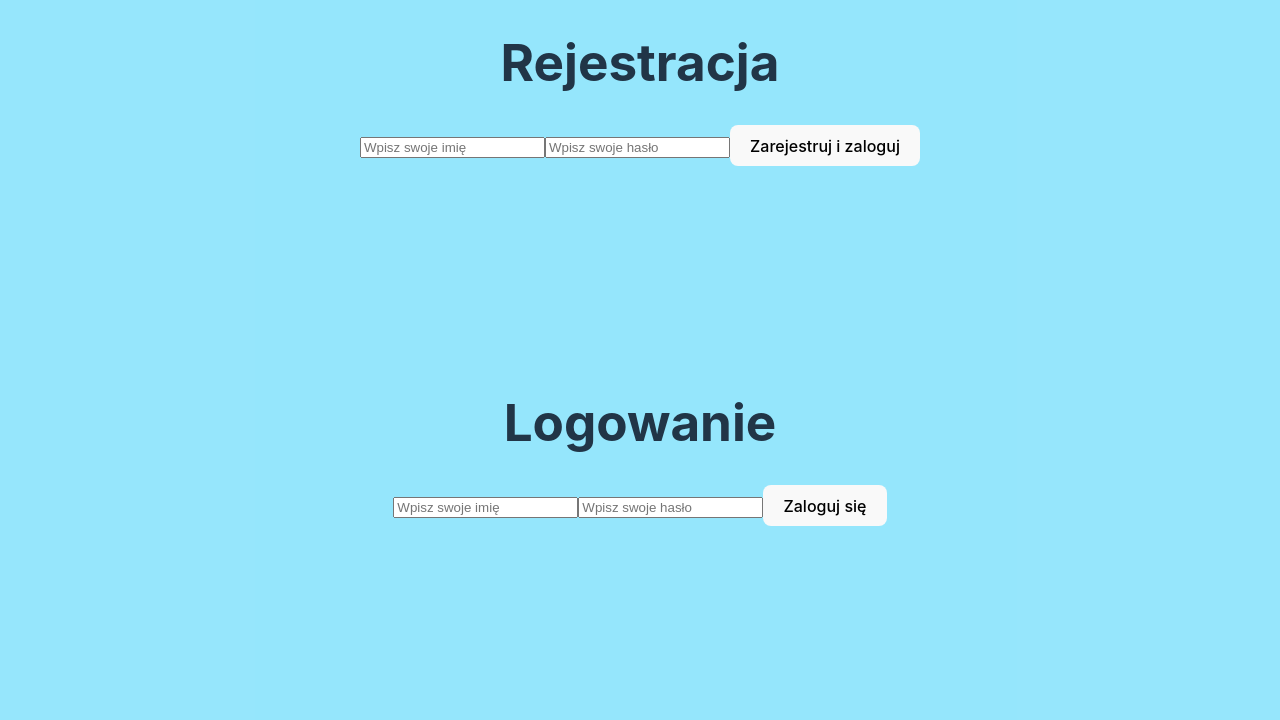
Test: example to-do app › shows error for wrong credentials
Testuje formularz logowania z błędnymi danymi
Type "Nieznany" into the field with test id "login-username-input".
click(486, 508); type("Nieznany")  # box [393,497,578,518]
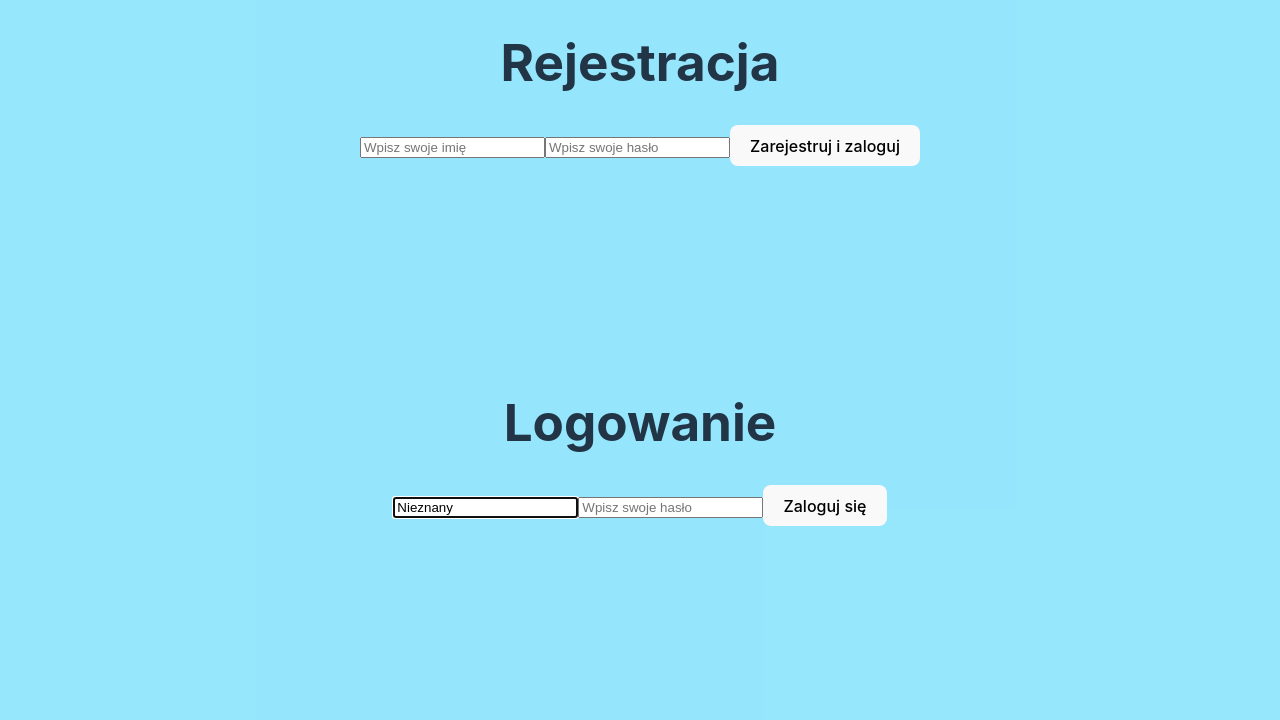
Type "błędnehasło" into the password field with test id "login-password-input".
click(671, 508); type("błędnehasło")  # box [578,497,763,518]
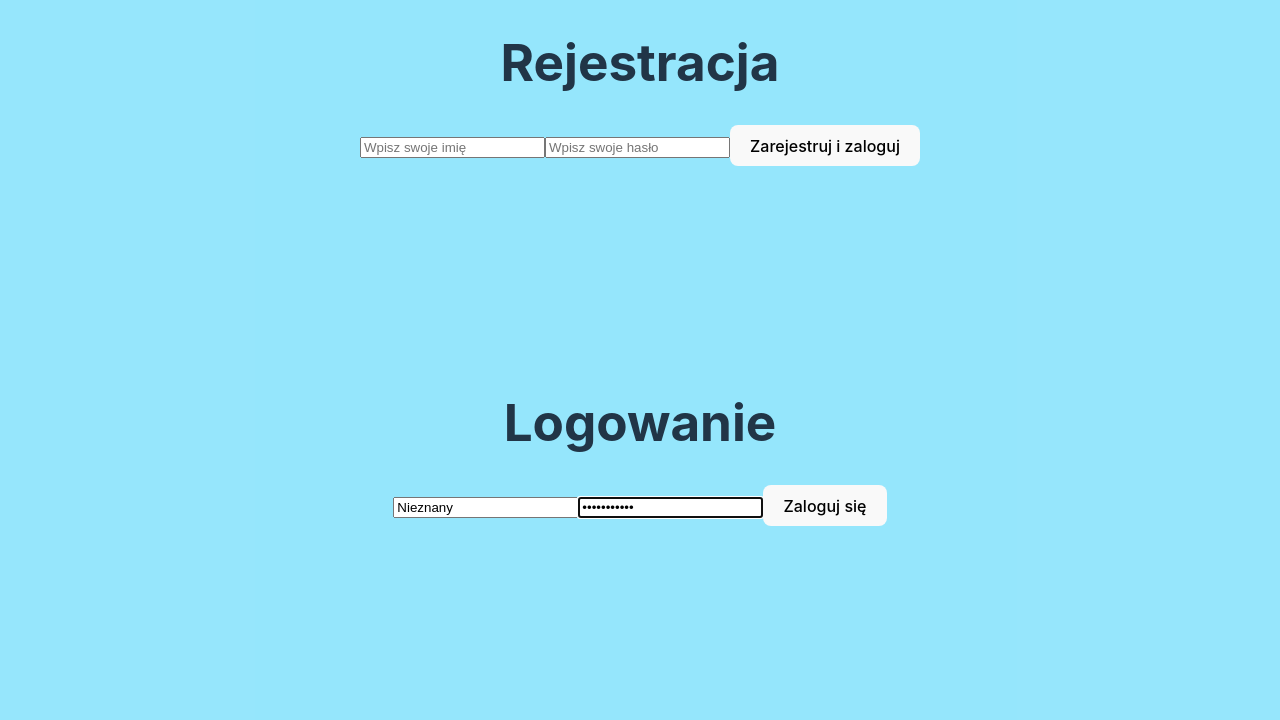
Click the button with test id "login-submit".
click(825, 506)  # box [763,485,886,526]
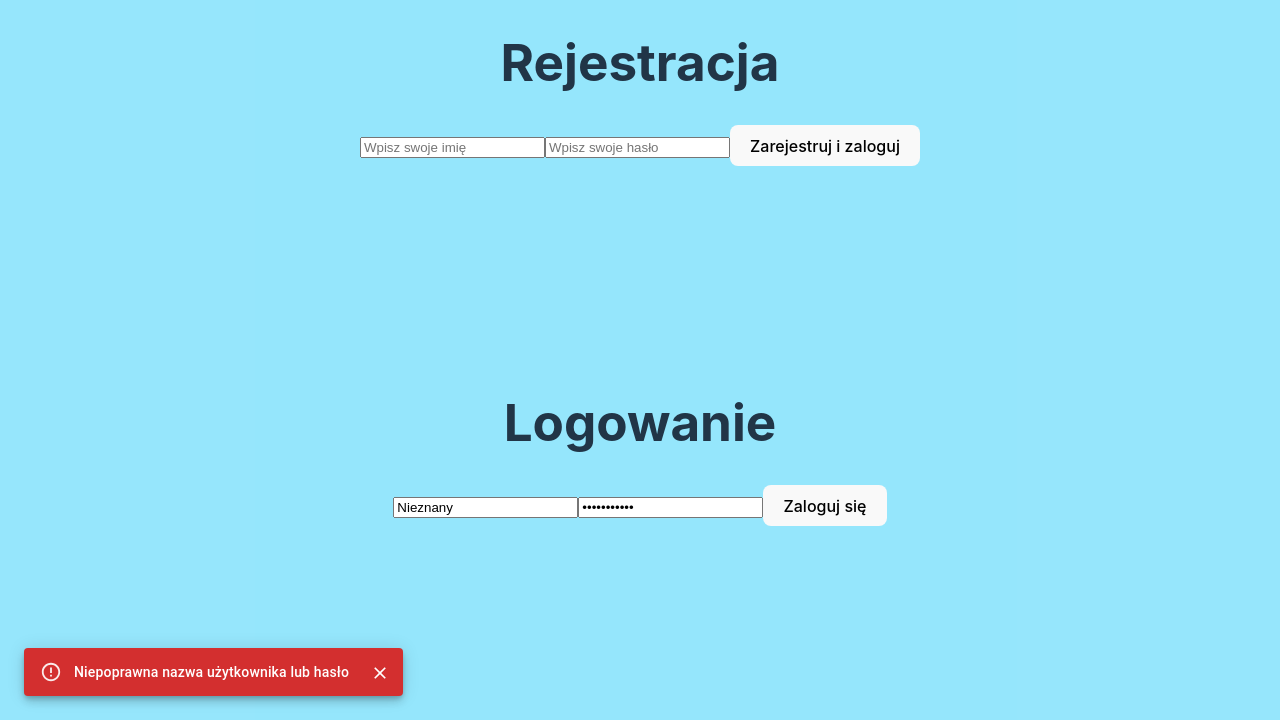
Result: the text "Niepoprawna nazwa użytkownika lub hasło" is shown at [74,664,349,680]
